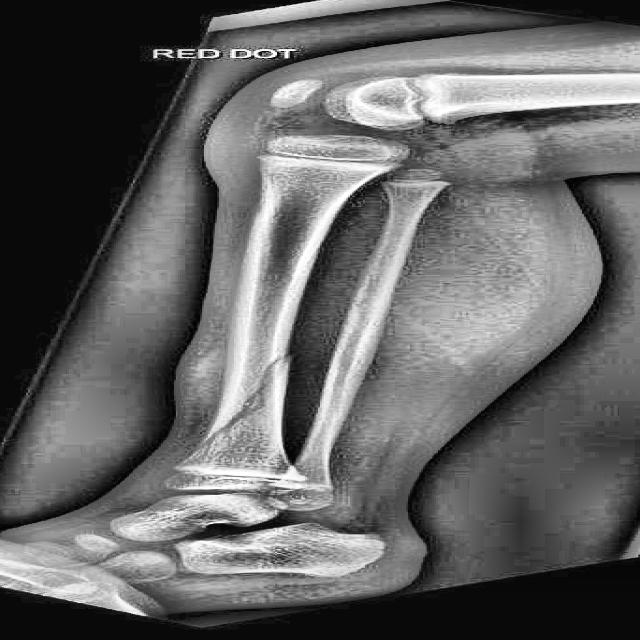line: (200, 357, 288, 445)
